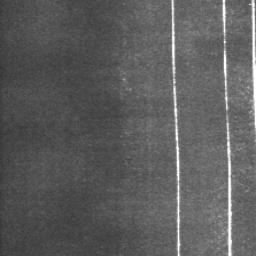Bright scratch: (222, 0, 232, 256), (171, 0, 180, 256), (251, 0, 256, 128)
